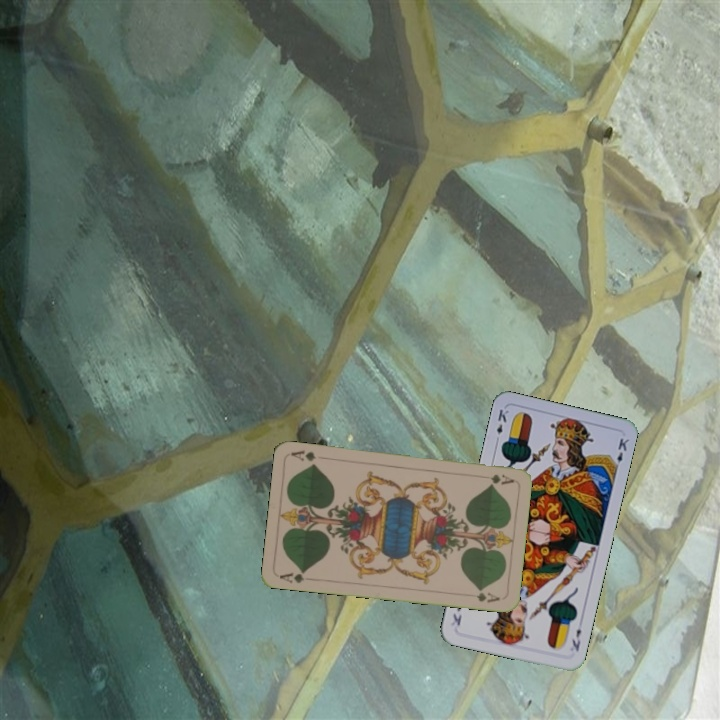EK: (491, 405, 511, 445), (568, 625, 584, 654)
GA: (275, 567, 308, 586), (487, 470, 516, 487)
